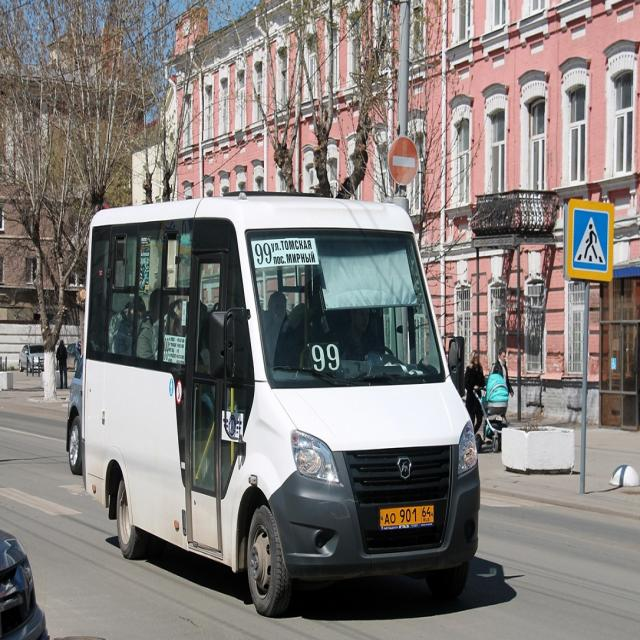number-of-bus: (308, 342, 345, 378), (253, 241, 275, 268)
